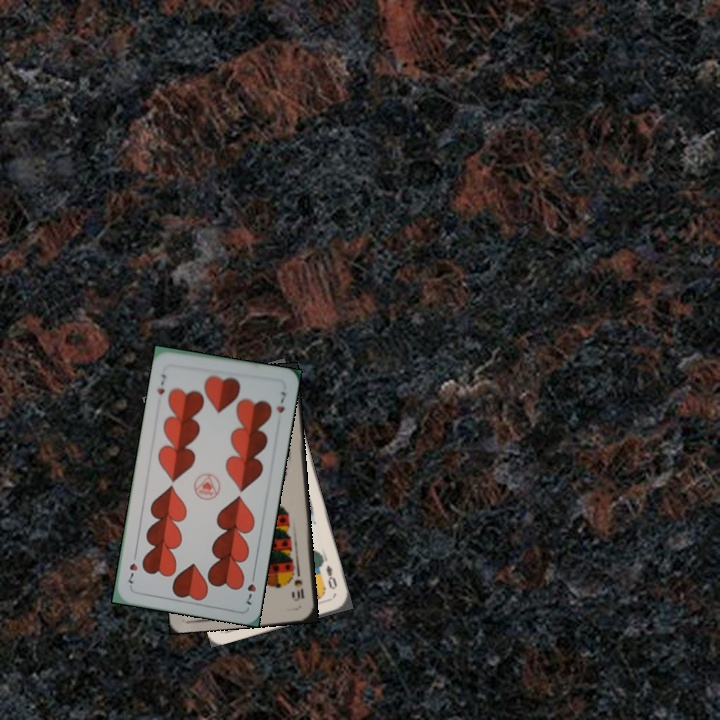EO: (322, 561, 339, 592)
H7: (242, 568, 259, 608), (153, 370, 169, 397)
S10: (290, 566, 306, 603)
